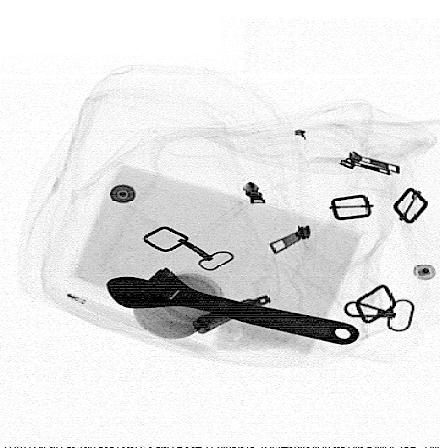Wrench: (102, 263, 363, 346)
